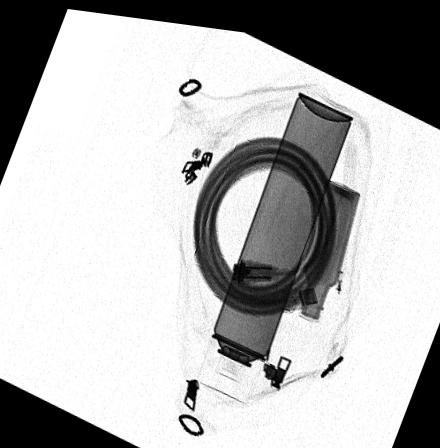Sprayer: (195, 83, 352, 398)
